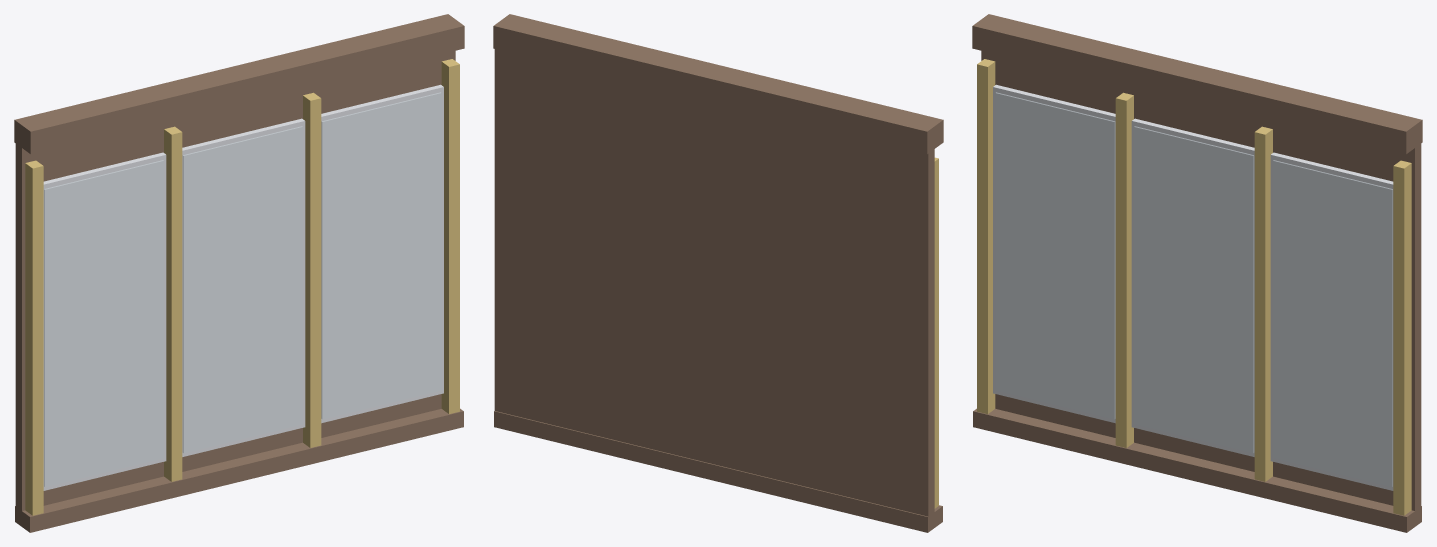
The model's file is casino-floor-and-back-rooms-mirrored-wall-a6f17301__27046.glb.
3 renders of one model, left to right at view 1: azimuth 30°, elevation 25°; view 2: azimuth 150°, elevation 25°; view 3: azimuth 330°, elevation 25°, orthographic.
Visible parts, largest first — view 1: mirrored-wall; view 2: mirrored-wall; view 3: mirrored-wall.
Boxes of the visible parts, <box> form: mirrored-wall: <box>14,14,464,532</box>; mirrored-wall: <box>493,14,943,532</box>; mirrored-wall: <box>972,14,1422,532</box>.
Size of the model in its own units: 4 by 3.54 by 0.2598.
